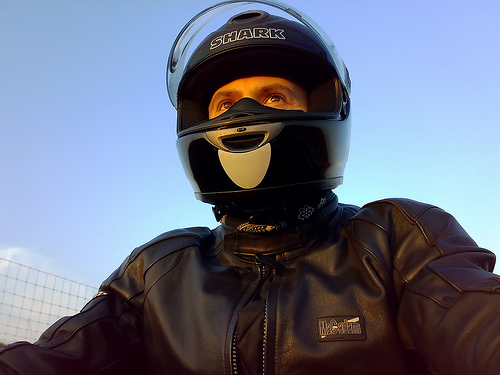helmet: (164, 9, 361, 185)
